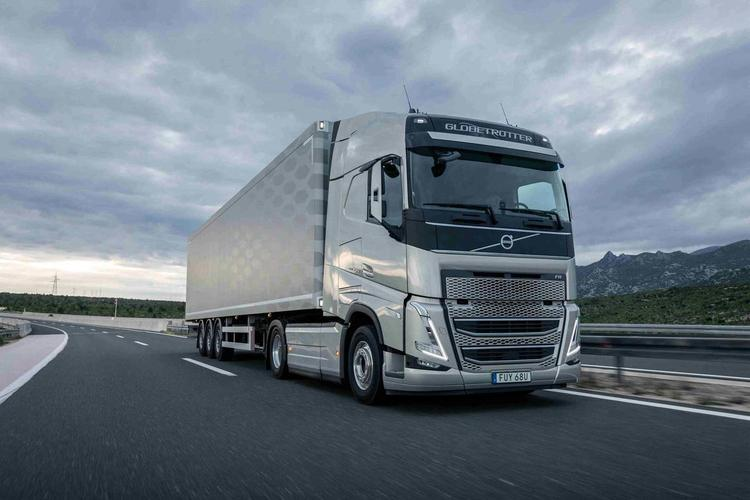卡车: (148, 104, 587, 417)
